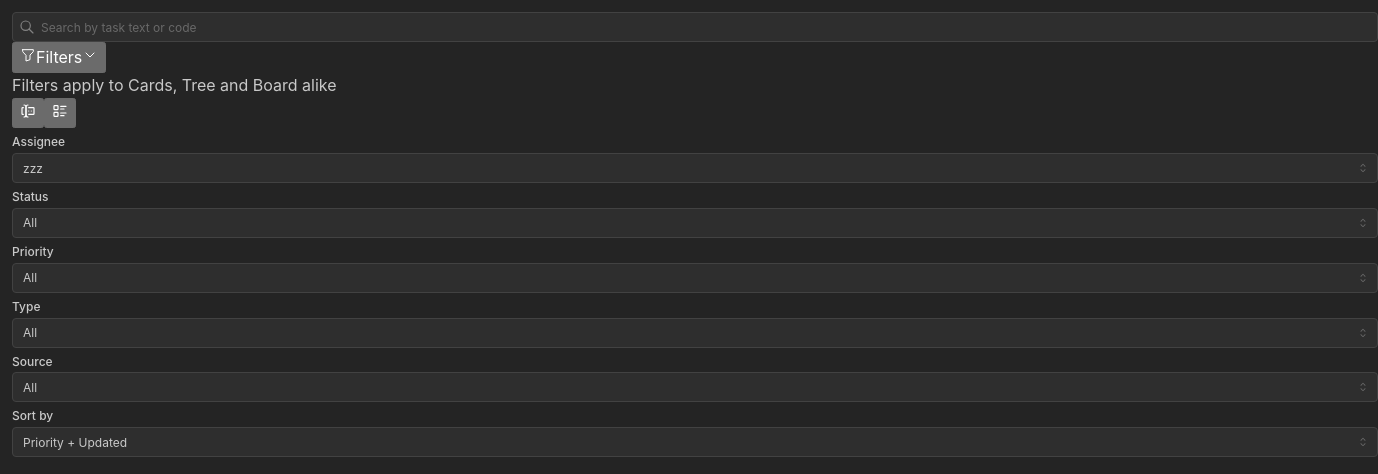
Test: TaskFilters — sk-285.5.5 assignee directory search › a server hit whose USERNAME matches but whose label does not is still offered
Click the field labelled "Assignee" at [695, 168], box left=12, top=153, right=1377, bottom=183
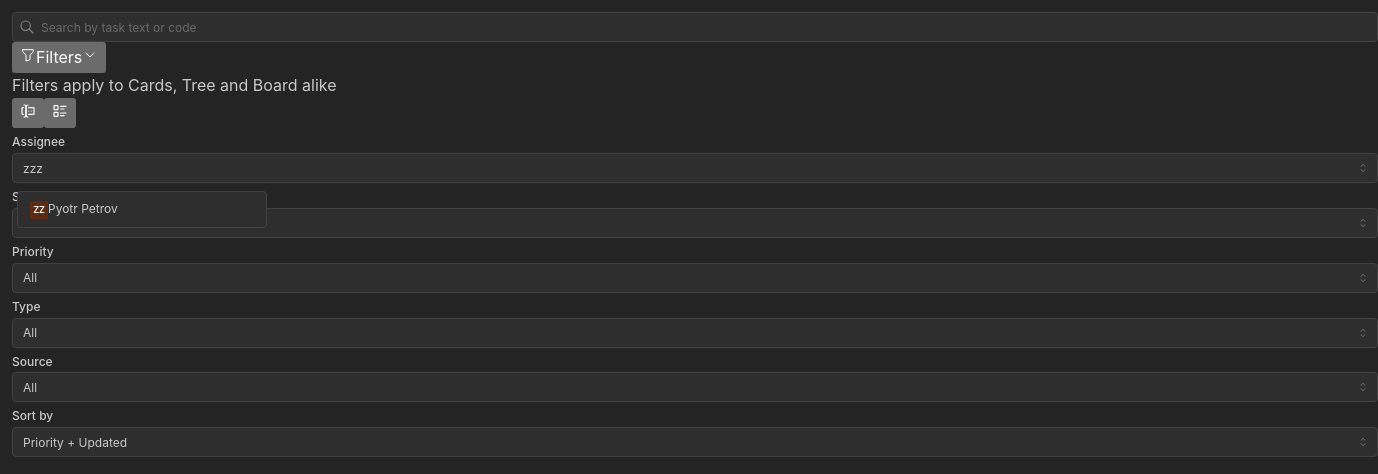
Expected: the option "ZZ Pyotr Petrov" is shown, left=30, top=201, right=118, bottom=219
